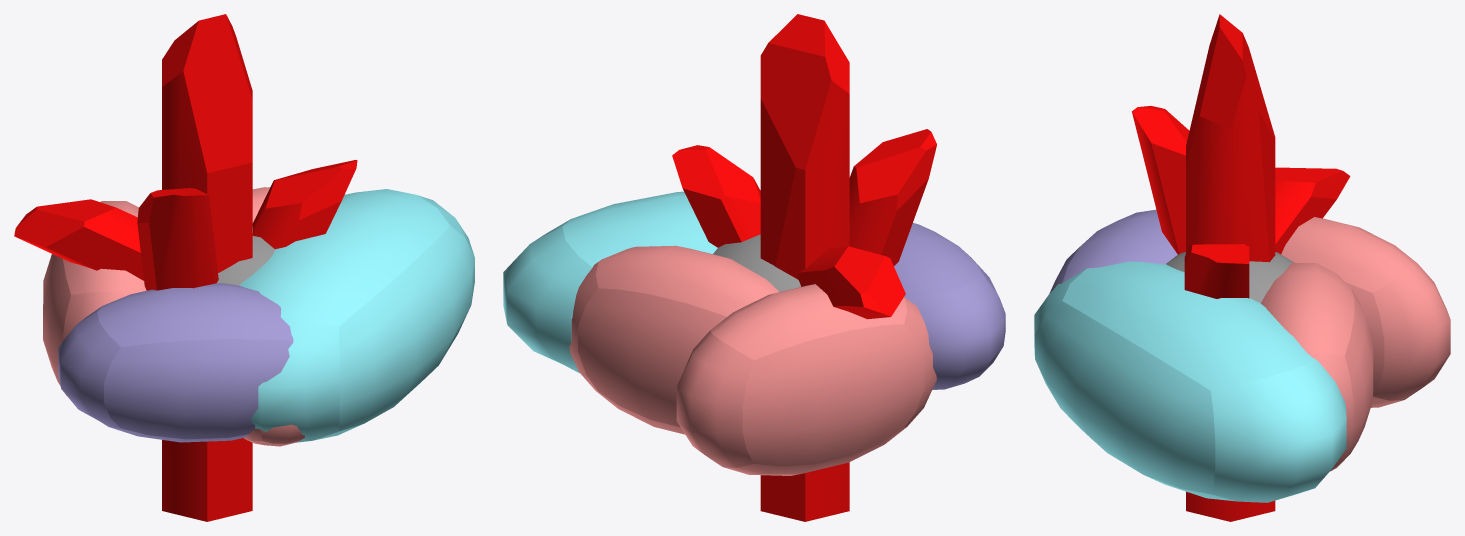
File: Crystal 3.FBX
3 views of the same model, side by side, from view 1: azimuth 30°, elevation 25°; view 2: azimuth 150°, elevation 25°; view 3: azimuth 270°, elevation 25° (orthographic).
Visible parts, largest first — view 1: Cylinder001, Box002, Box001, Box003, Box005, Box004; view 2: Cylinder001, Box003, Box006, Box002, Box001, Box005; view 3: Box002, Cylinder001, Box003, Box006, Box001, Box005.
Part boxes in pixels (x1,y1,x2,y2): Cylinder001: (14,14,357,521); Box002: (239,189,474,442); Box001: (58,283,293,442); Box003: (43,201,146,395); Box005: (217,226,274,285); Box004: (243,424,304,446); Cylinder001: (672,14,936,521); Box003: (676,284,936,475); Box006: (569,245,779,434); Box002: (503,190,760,372); Box001: (894,223,1005,389); Box005: (713,234,800,291); Box002: (1034,261,1346,502); Cylinder001: (1132,14,1350,521); Box003: (1281,217,1450,407); Box006: (1261,263,1373,471); Box001: (1049,209,1177,293); Box005: (1166,252,1294,303).
Size of the model in its own units: 14.72 by 15.55 by 12.24.
